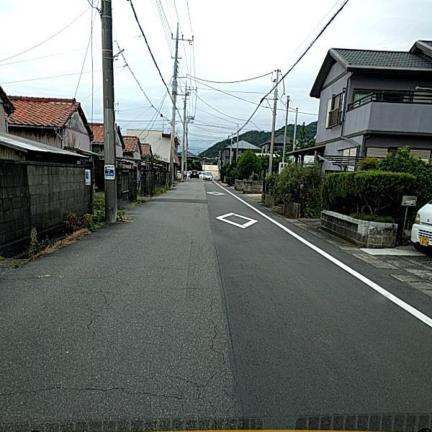Road: (0, 181, 431, 430)
